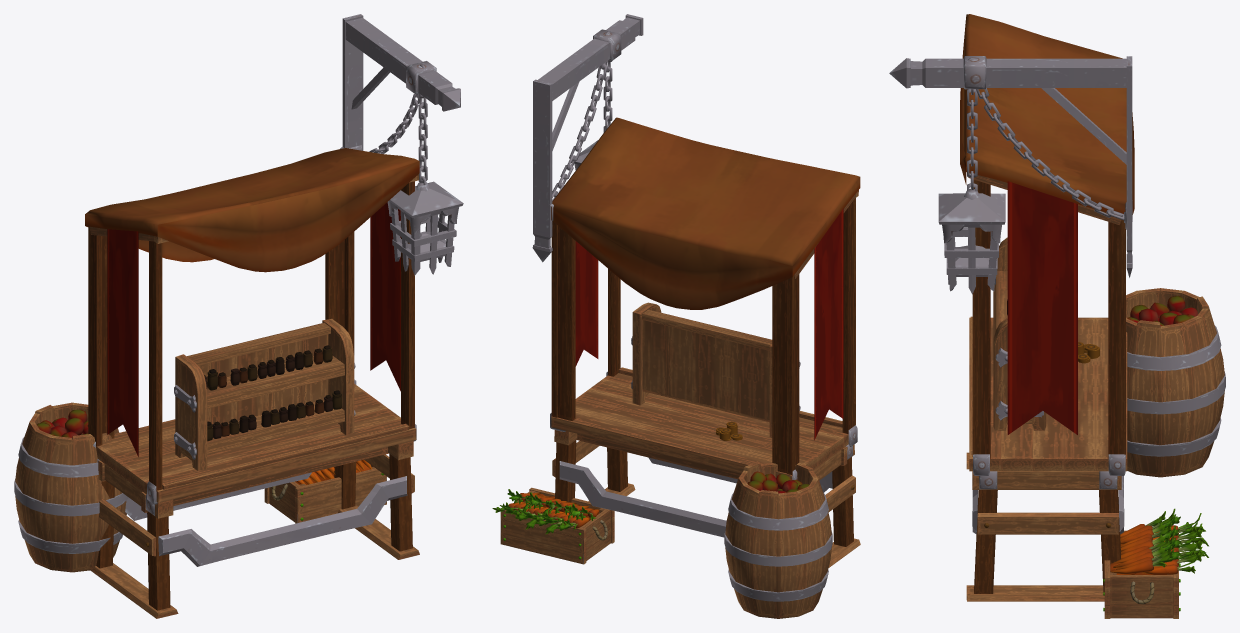
Rendered from bg_market_stall.glb.
3 views of the same model, side by side, from view 1: azimuth 30°, elevation 25°; view 2: azimuth 150°, elevation 25°; view 3: azimuth 270°, elevation 25° (orthographic). The views are drawn at different scales.
Visible parts, largest first — view 1: Stall_Empty, Shelf_Small_Bottles, Barrel_Apples, Lantern_Wall, FarmCrate_Carrot; view 2: Stall_Empty, Barrel_Apples, Shelf_Small_Bottles, Lantern_Wall, FarmCrate_Carrot; view 3: Stall_Empty, Lantern_Wall, Barrel_Apples, FarmCrate_Carrot, Shelf_Small_Bottles.
Part boxes in pixels (x1,y1,x2,y2): Stall_Empty: (85,148,419,618); Shelf_Small_Bottles: (174,318,355,470); Barrel_Apples: (14,402,128,572); Lantern_Wall: (340,14,463,275); FarmCrate_Carrot: (264,459,386,523); Stall_Empty: (550,117,860,567); Barrel_Apples: (724,461,832,618); Shelf_Small_Bottles: (631,302,800,437); Lantern_Wall: (532,14,643,262); FarmCrate_Carrot: (492,487,614,564); Stall_Empty: (960,14,1134,601); Lantern_Wall: (889,56,1132,294); Barrel_Apples: (1126,288,1225,477); FarmCrate_Carrot: (1103,508,1208,618); Shelf_Small_Bottles: (993,237,1046,430).
Size of the model in its own units: 2.41 by 3.23 by 1.8.
14 materials, 14 textured.
